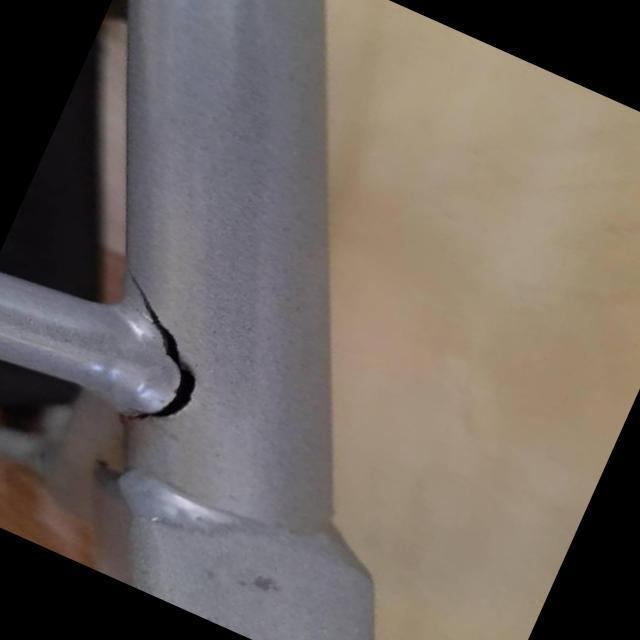defect: (110, 264, 199, 431)
